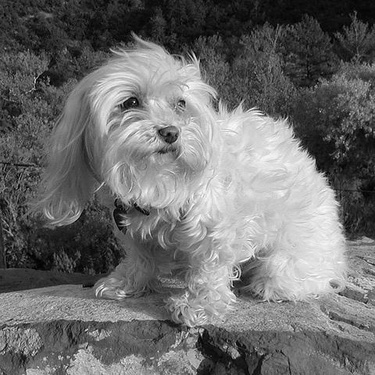dog: (21, 23, 354, 334)
